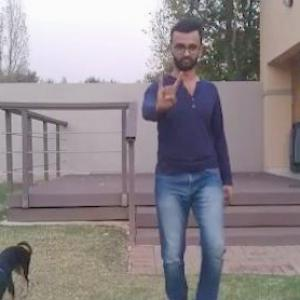takeoff-hand: (146, 65, 190, 117)
